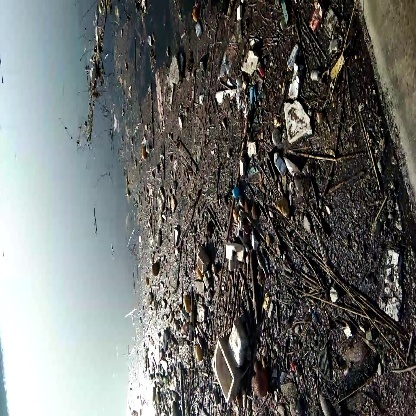plastic-garbage: (206, 316, 251, 405)
